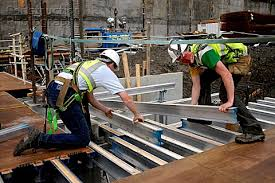helmet: (102, 47, 123, 71), (167, 42, 187, 63)
